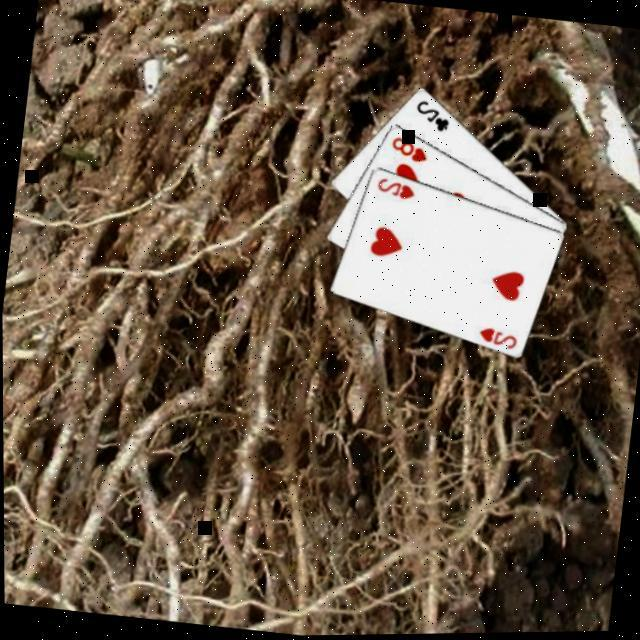2C: (411, 94, 455, 135)
2H: (373, 173, 419, 203), (474, 322, 520, 352)
8H: (387, 131, 432, 165)
